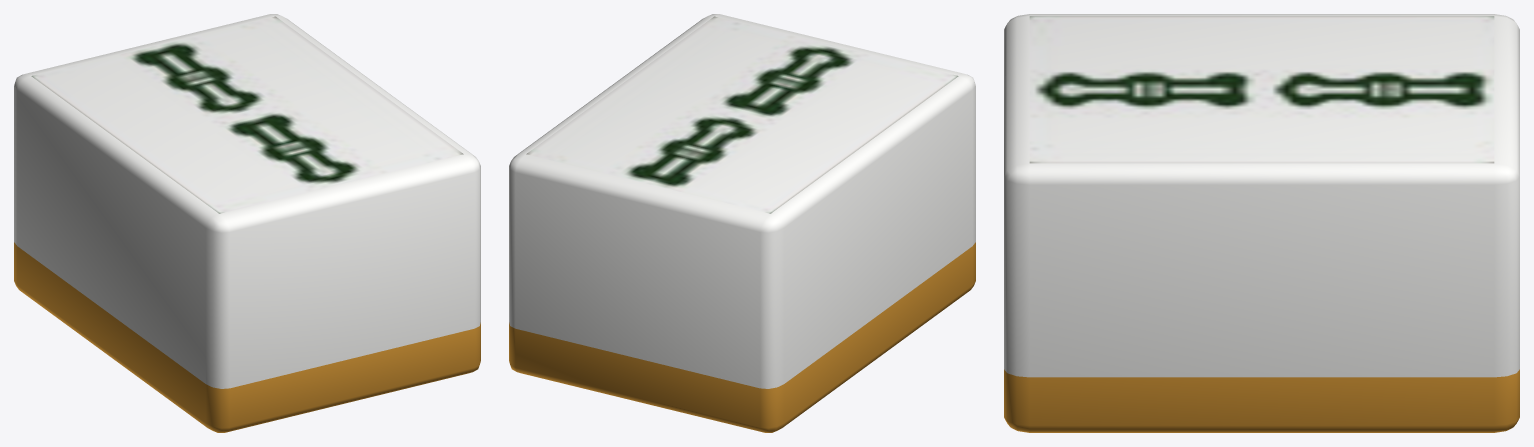
3 views of the same model, side by side, from view 1: azimuth 30°, elevation 25°; view 2: azimuth 150°, elevation 25°; view 3: azimuth 270°, elevation 25° (orthographic). The views are drawn at different scales.
Visible parts, largest first — view 1: hai; view 2: hai; view 3: hai.
Part boxes in pixels (<box>): hai: <box>14,14,480,432</box>; hai: <box>509,14,975,432</box>; hai: <box>1004,14,1519,432</box>.
Size of the model in its own units: 420 by 320 by 560.
Materials: 3 (1 with a texture image).
